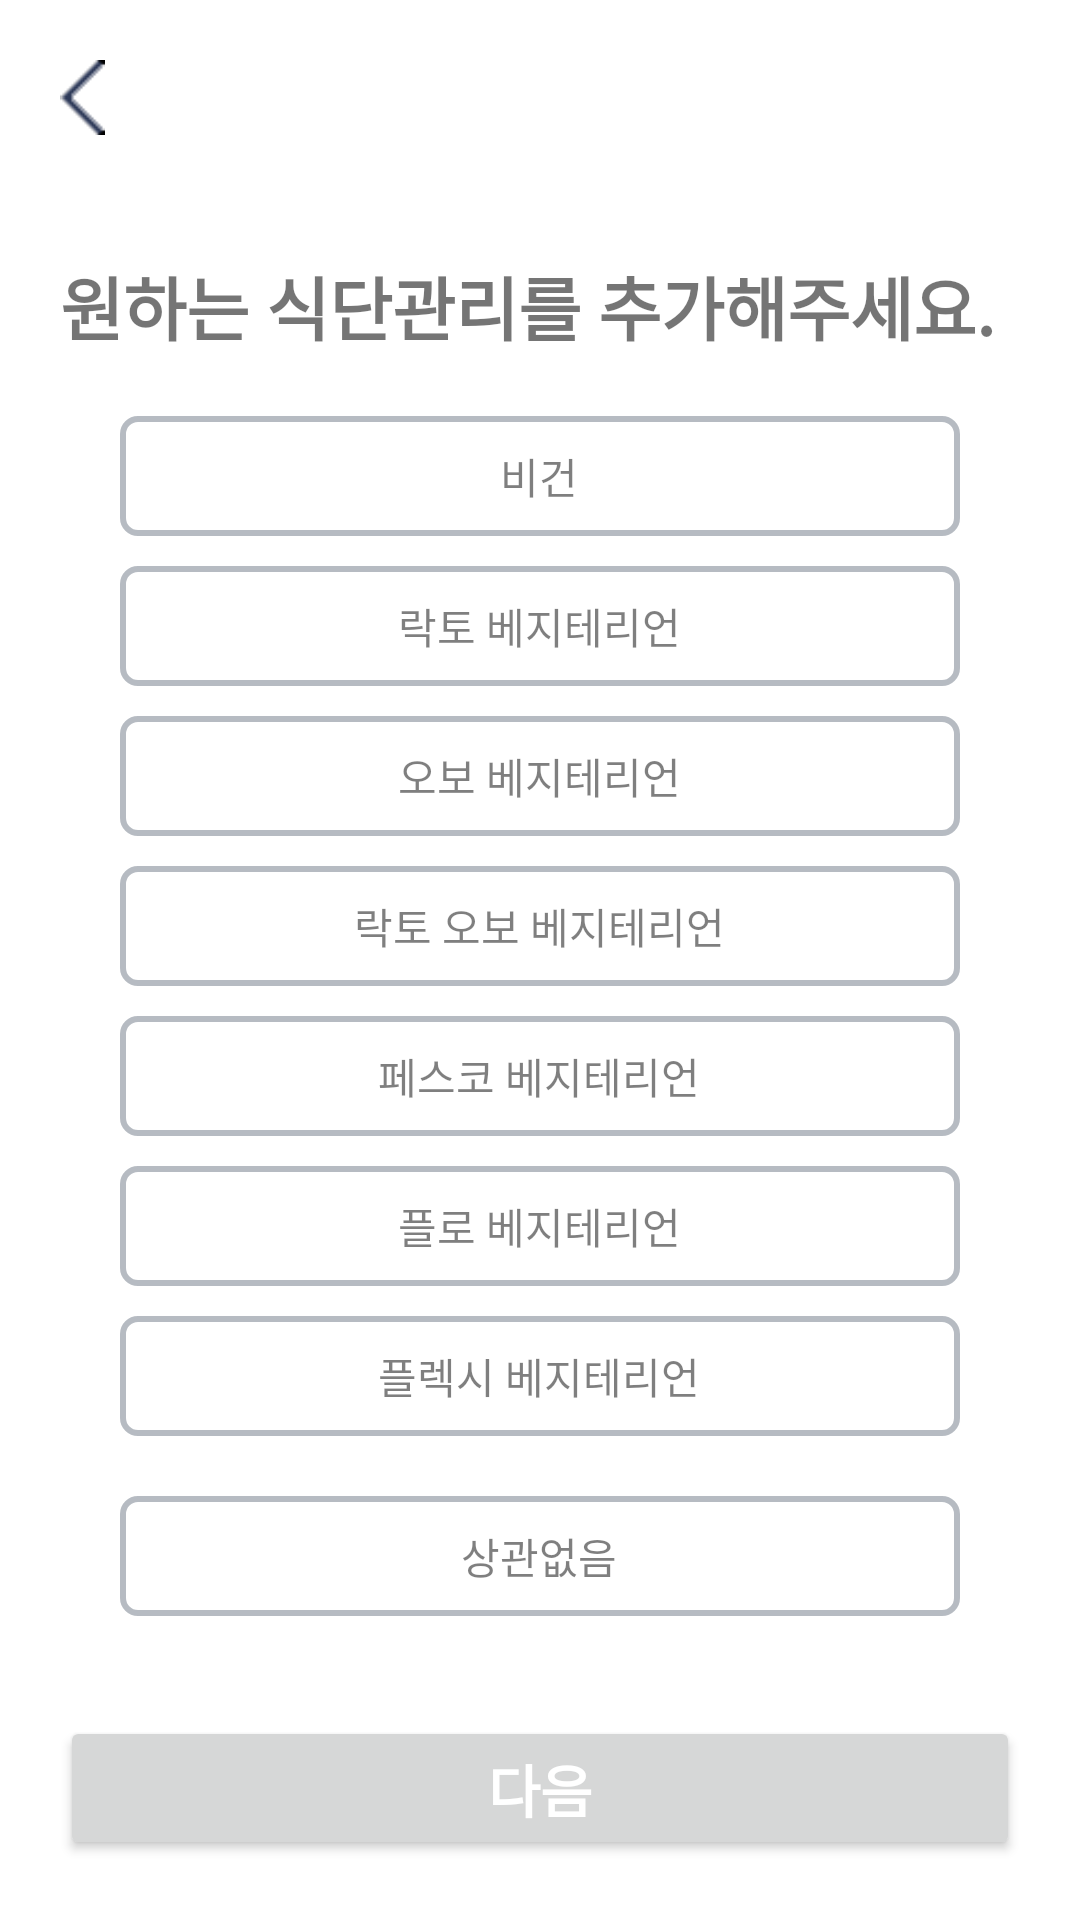

Point at icon controls on the screen. Image size 1080px×1920px, points as (x,y).
backarrow: (82,97)
